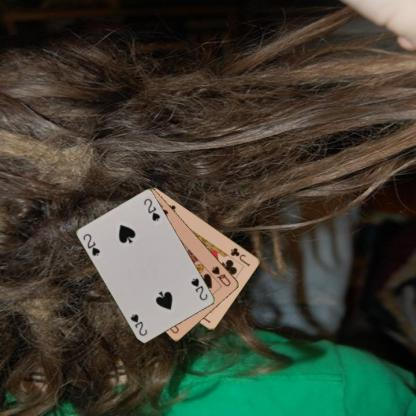2s: (188, 276, 210, 302), (81, 231, 102, 257)
Jc: (228, 245, 251, 267)
Qs: (209, 263, 232, 288)
